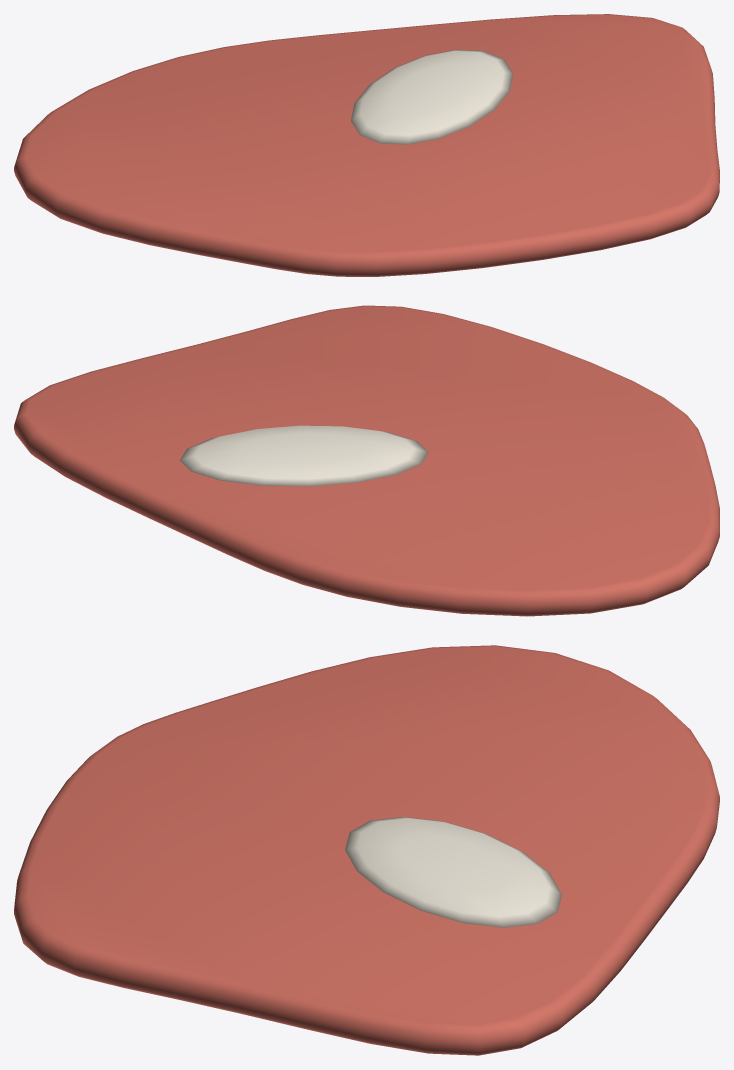
File: prep_pool.glb
3 renders of one model, top to bottom at view 1: azimuth 30°, elevation 25°; view 2: azimuth 150°, elevation 25°; view 3: azimuth 270°, elevation 25°, orthographic. The views are drawn at different scales.
Visible parts, largest first — view 1: PART; view 2: PART; view 3: PART.
Boxes of the visible parts, bbox=[...] form: PART: bbox=[14, 14, 719, 276]; PART: bbox=[14, 305, 719, 616]; PART: bbox=[14, 645, 719, 1055].
Size of the model in its own units: 0.0853 by 0.0041 by 0.0652.
